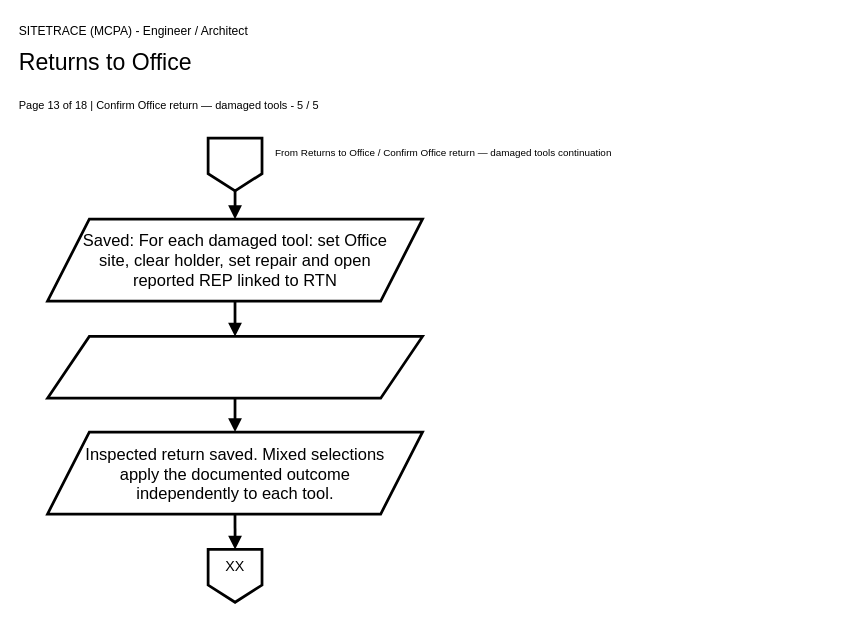
The diagram is 859 pixels wide and 623 high, and some of its shapes have lost their labels. The shapes that lost their labels are listed below. From the top down, each one's box as (x1, y1, x2, y2) in pixels, then its label:
(206, 136, 263, 192): JZ
(46, 335, 423, 399): Display saved RTN source and inspection details in the refreshed module
